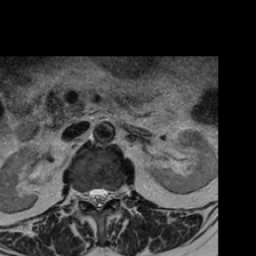CCS_normal: (94, 179, 102, 218)
LFS_normal: (110, 179, 118, 209)
LLS_normal: (102, 179, 110, 210)
RFS_normal: (78, 181, 86, 210)
RLS_normal: (86, 180, 94, 211)
